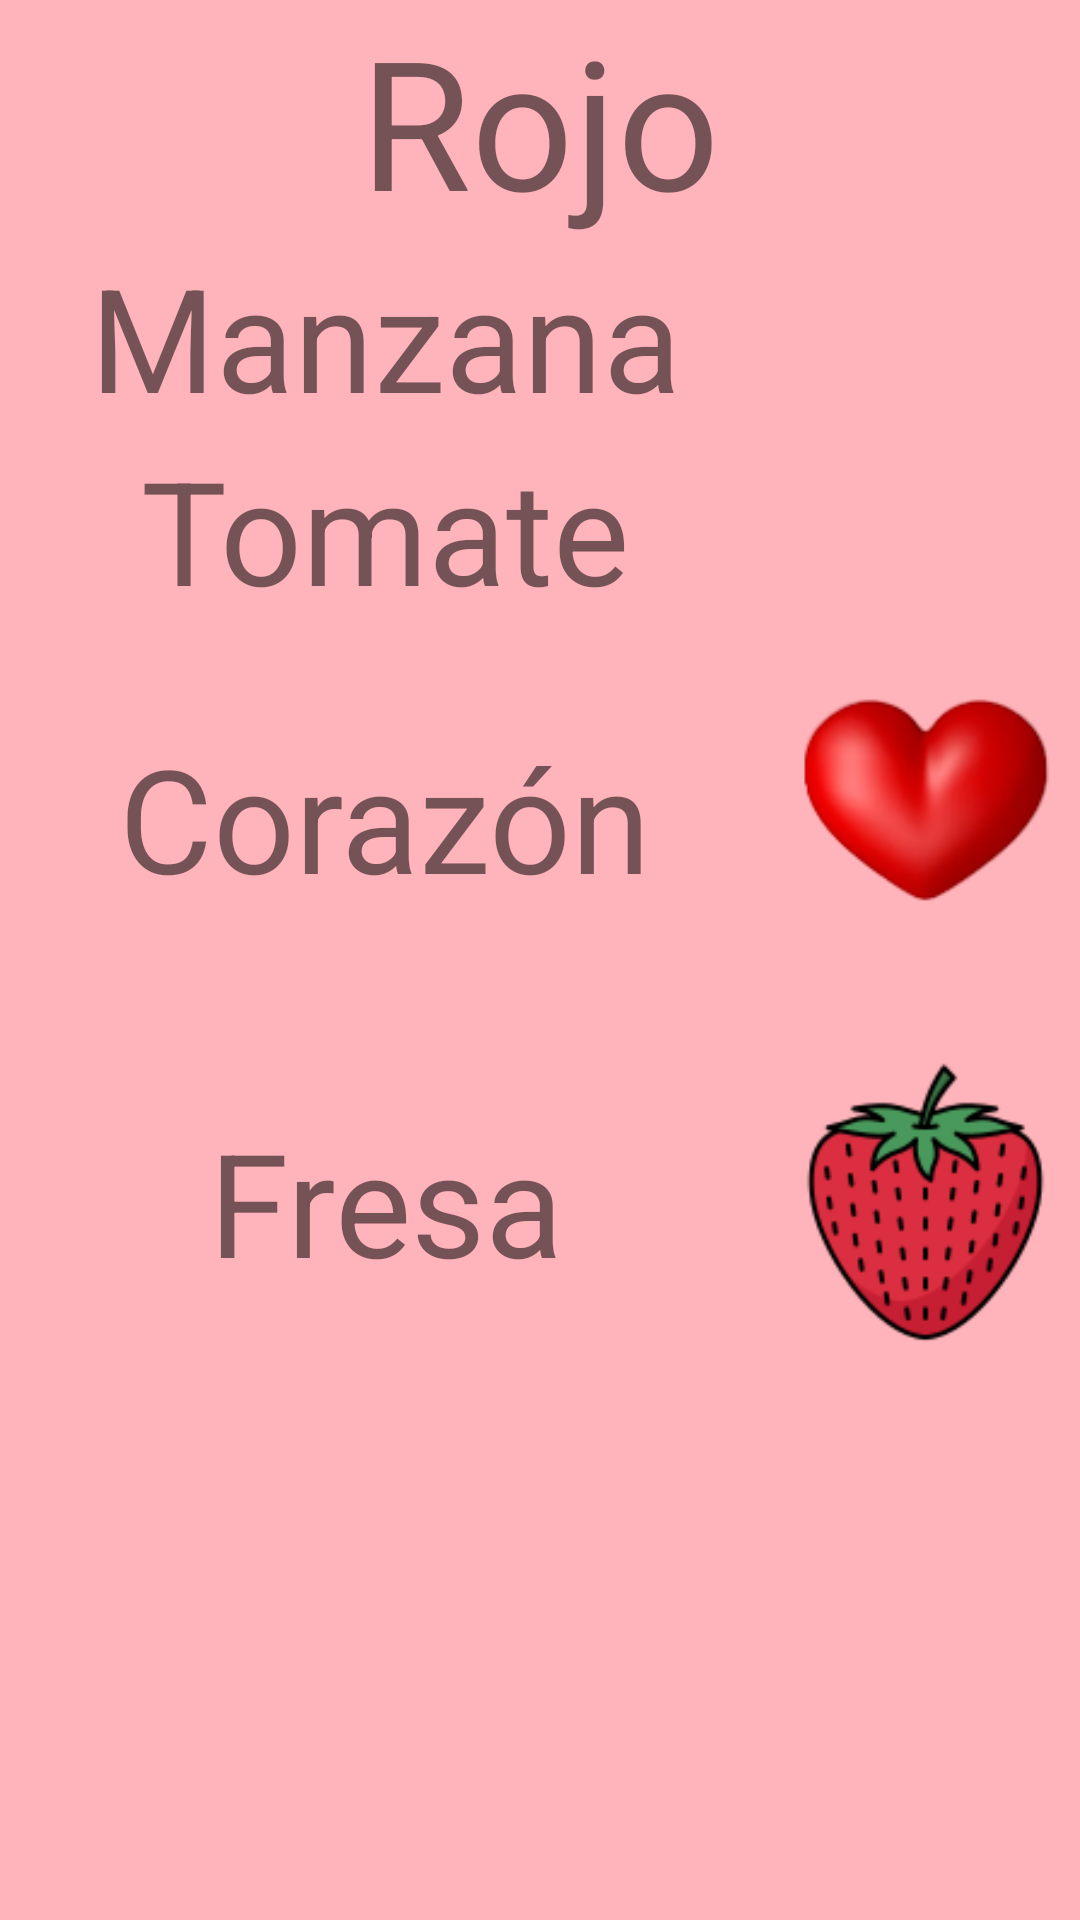

Point at icon controls on the screen. Image size 1080 x 1920, points as (x,y).
corazon: (926,800)
